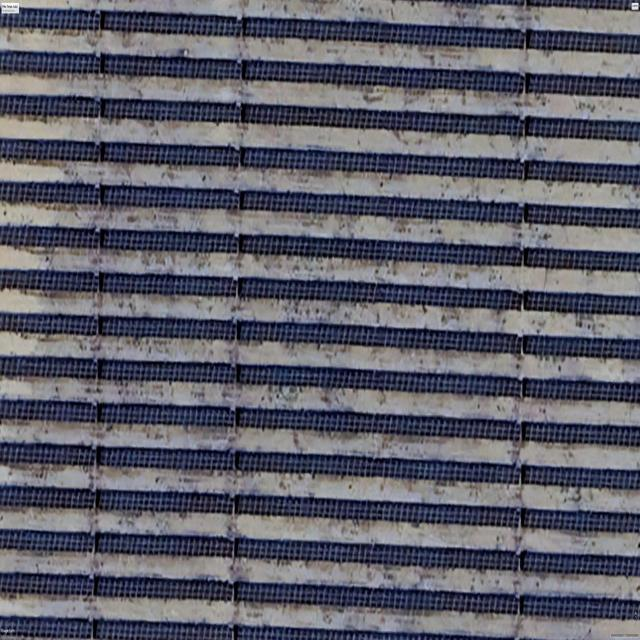Solar Panels: (0, 353, 640, 404), (0, 5, 640, 54), (0, 572, 640, 621), (0, 94, 640, 142), (0, 181, 640, 229), (0, 312, 640, 360), (0, 399, 640, 447), (0, 485, 640, 533), (0, 529, 640, 577), (0, 51, 640, 98), (0, 225, 640, 272), (0, 269, 640, 316), (0, 443, 640, 490), (0, 139, 640, 184), (0, 616, 514, 640)
